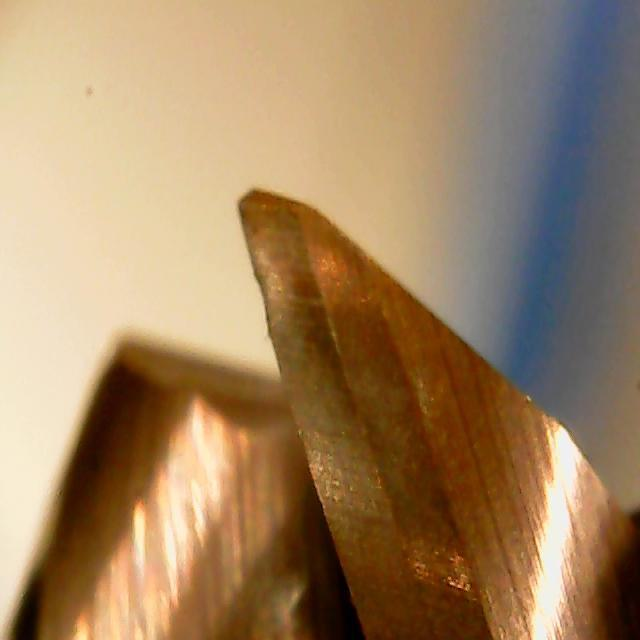Tool-wear-class-1: (217, 160, 347, 357)
